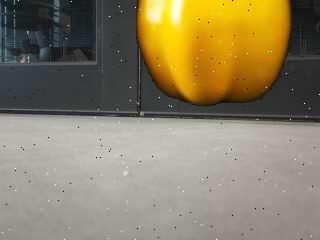Capsicum: (132, 0, 293, 107)
